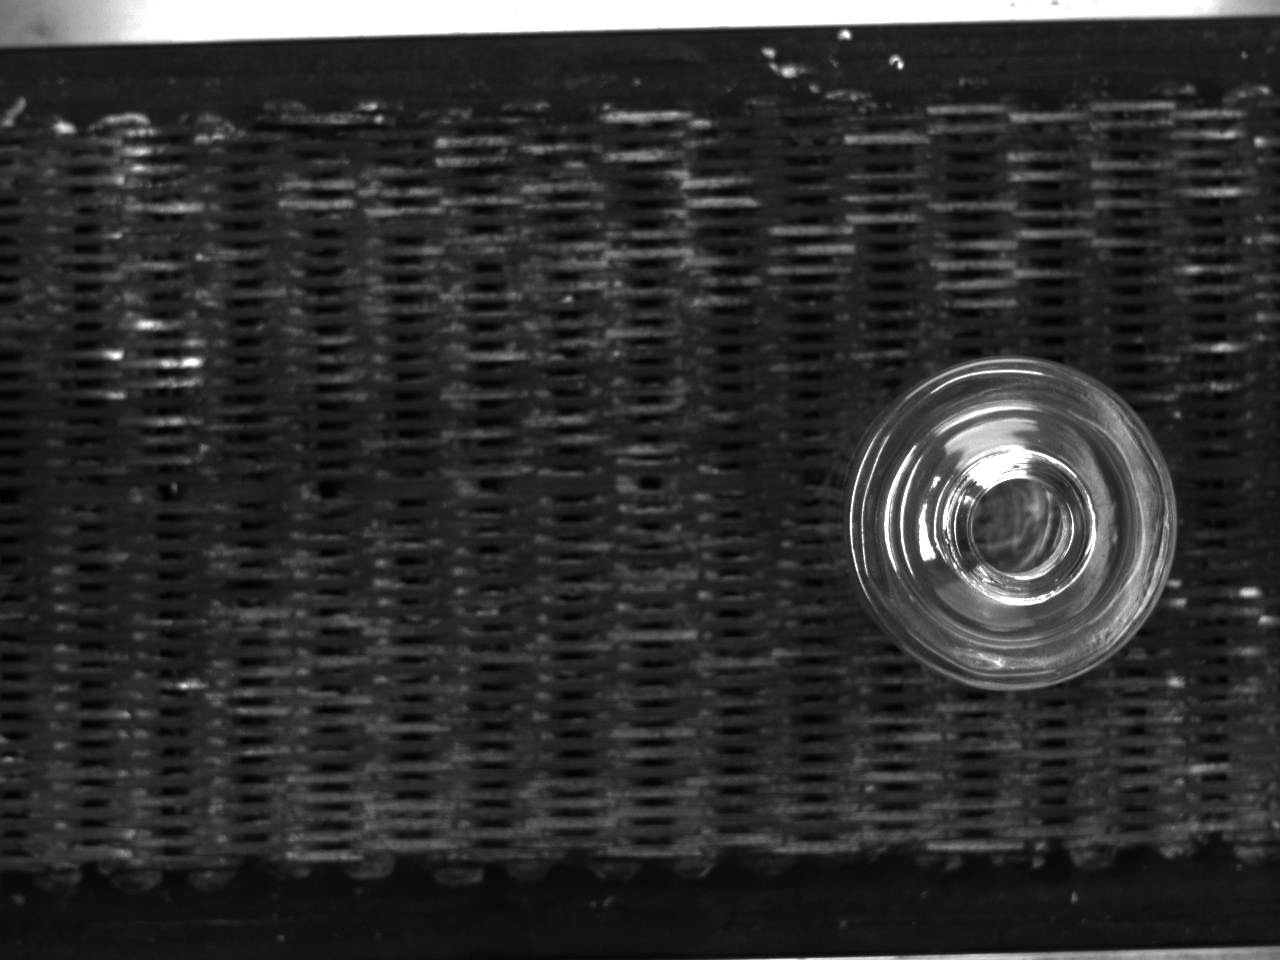bottleneck: (945, 450, 1097, 605)
